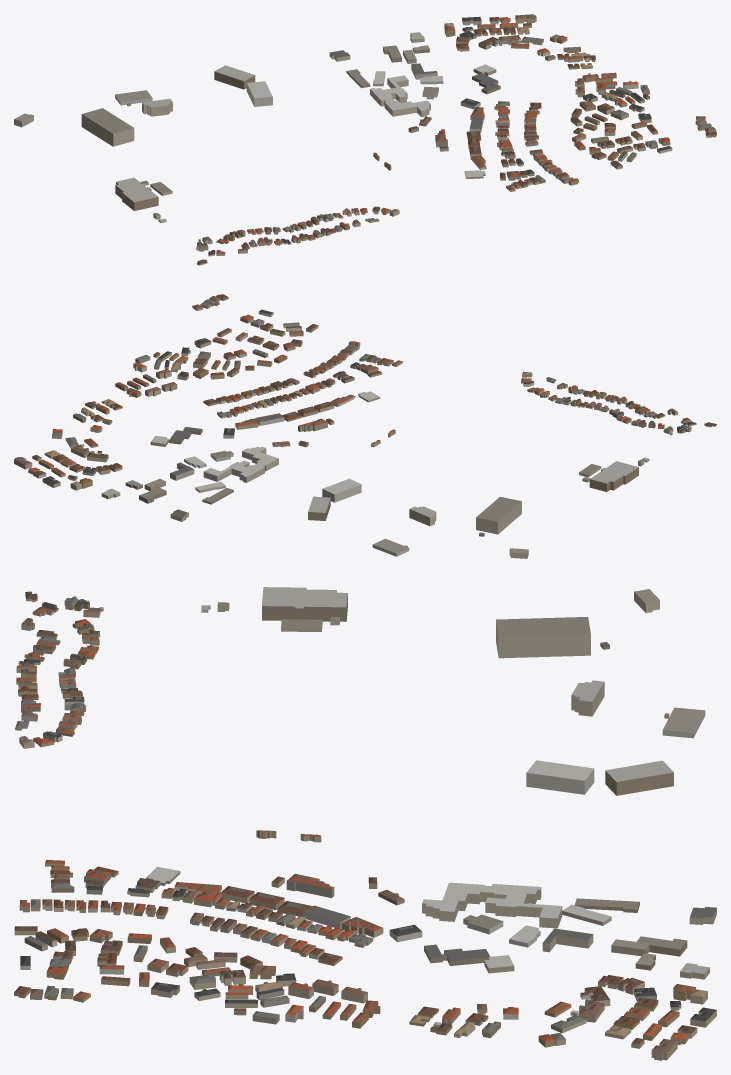
3 renders of one model, top to bottom at view 1: azimuth 30°, elevation 25°; view 2: azimuth 150°, elevation 25°; view 3: azimuth 270°, elevation 25°, orthographic. The views are drawn at different scales.
Parts seen in each view (by area): view 1: buildings_r4_c7_lod1; view 2: buildings_r4_c7_lod1; view 3: buildings_r4_c7_lod1.
Part boxes in pixels (<box>): buildings_r4_c7_lod1: <box>14,14,716,265</box>; buildings_r4_c7_lod1: <box>14,294,716,558</box>; buildings_r4_c7_lod1: <box>14,587,716,1060</box>.
Size of the model in its own units: 1145 by 85.16 by 801.
